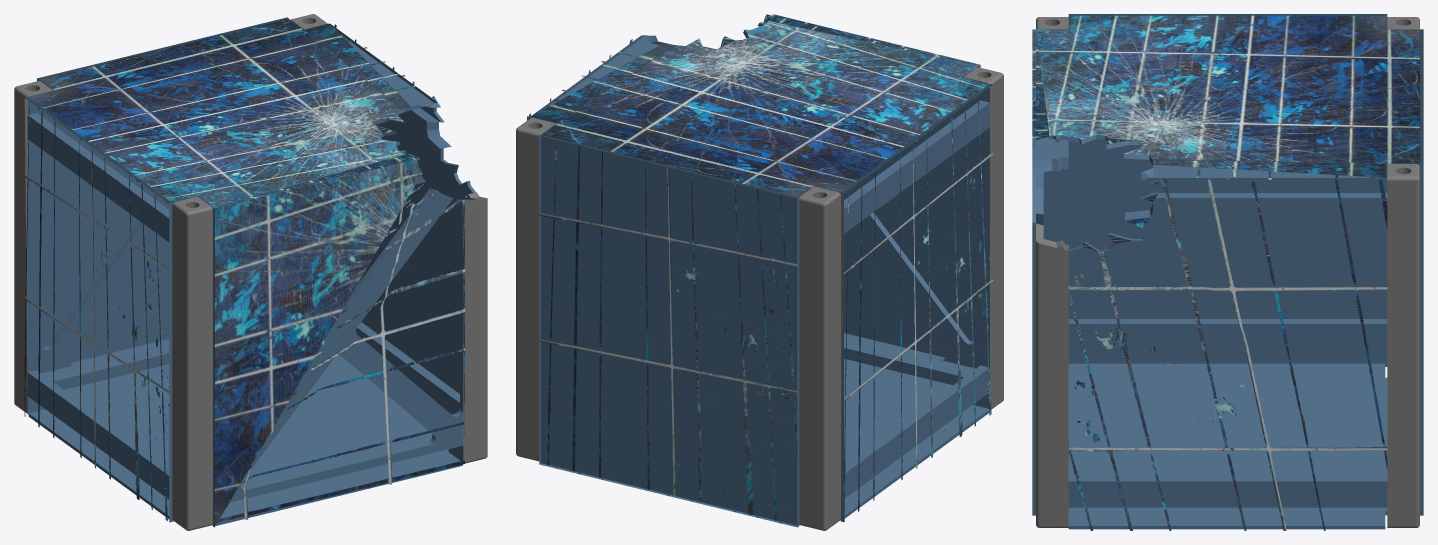
The model's file is target_vis.dae.
The picture shows the model from 3 angles, left to right: view 1: azimuth 30°, elevation 25°; view 2: azimuth 150°, elevation 25°; view 3: azimuth 270°, elevation 25°; orthographic projection. The views are drawn at different scales.
Parts seen in each view (by area): view 1: target_vis; view 2: target_vis; view 3: target_vis.
Boxes of the visible parts, left/top/right/bottom form: target_vis: left=14, top=14, right=487, bottom=530; target_vis: left=516, top=14, right=1003, bottom=530; target_vis: left=1032, top=14, right=1423, bottom=530.
Bounding box in the file's own units: 0.303 × 0.303 × 0.3.
Materials: 4 (3 with a texture image).
